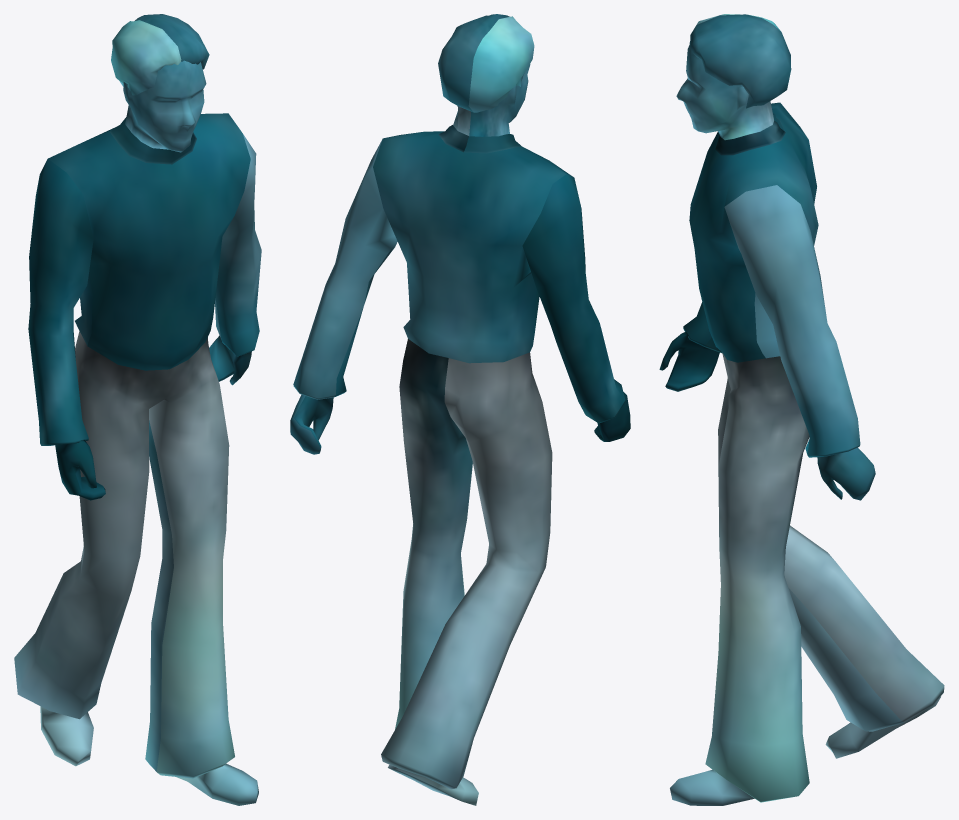
The model's file is simpleMan05.obj.
3 renders of one model, left to right at view 1: azimuth 30°, elevation 25°; view 2: azimuth 150°, elevation 25°; view 3: azimuth 270°, elevation 25°, orthographic. The views are drawn at different scales.
Visible parts, largest first — view 1: uomo; view 2: uomo; view 3: uomo.
Boxes of the visible parts, left/top/right/bottom form: uomo: left=14, top=14, right=261, bottom=805; uomo: left=290, top=14, right=630, bottom=805; uomo: left=659, top=14, right=944, bottom=805.
Size of the model in its own units: 1.82 by 4.95 by 1.69.
